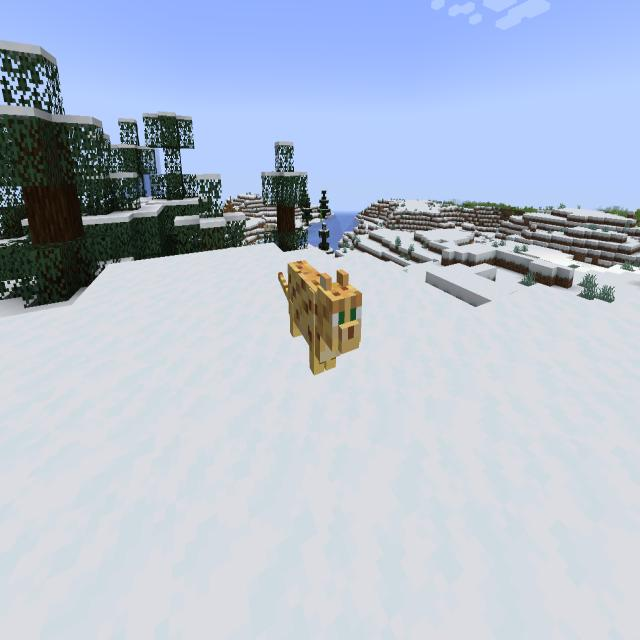Ocelot: (272, 235, 371, 411)
